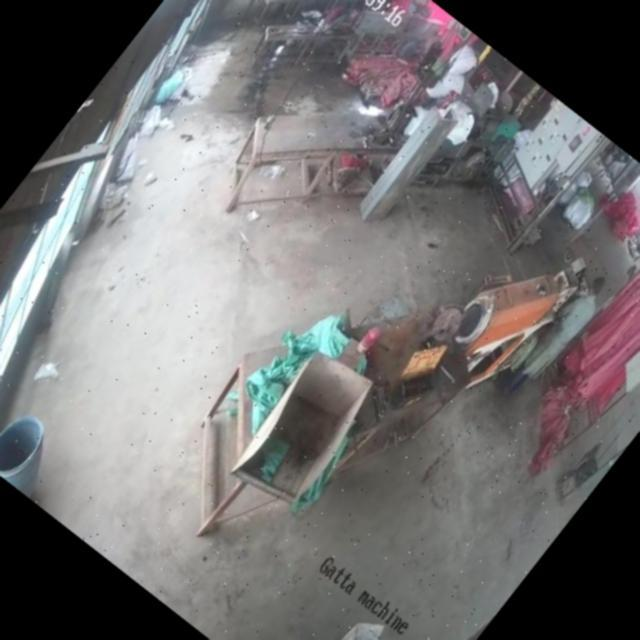person: (512, 280, 611, 400)
